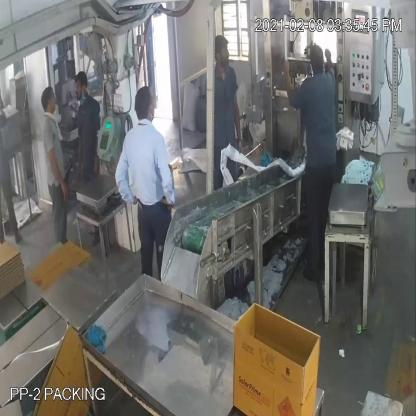no_glove: (150, 132, 179, 214), (112, 141, 139, 215), (44, 136, 69, 204), (231, 78, 247, 156), (280, 53, 298, 109), (323, 37, 338, 96)
